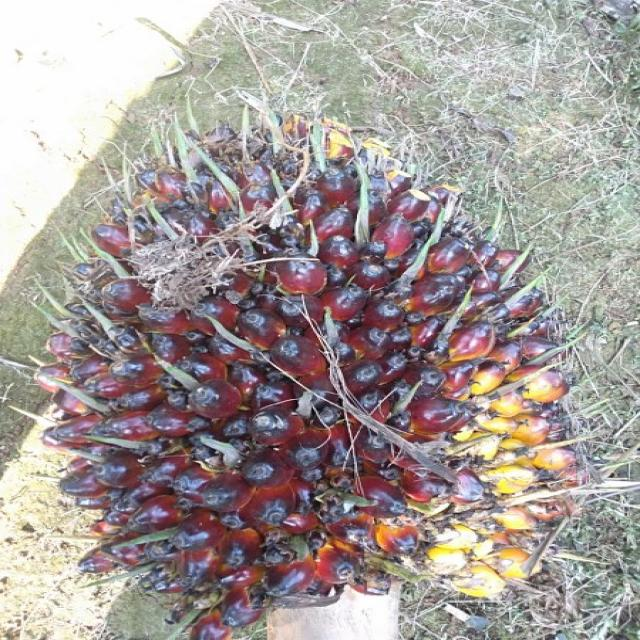fraksi 1: (0, 122, 618, 640)
